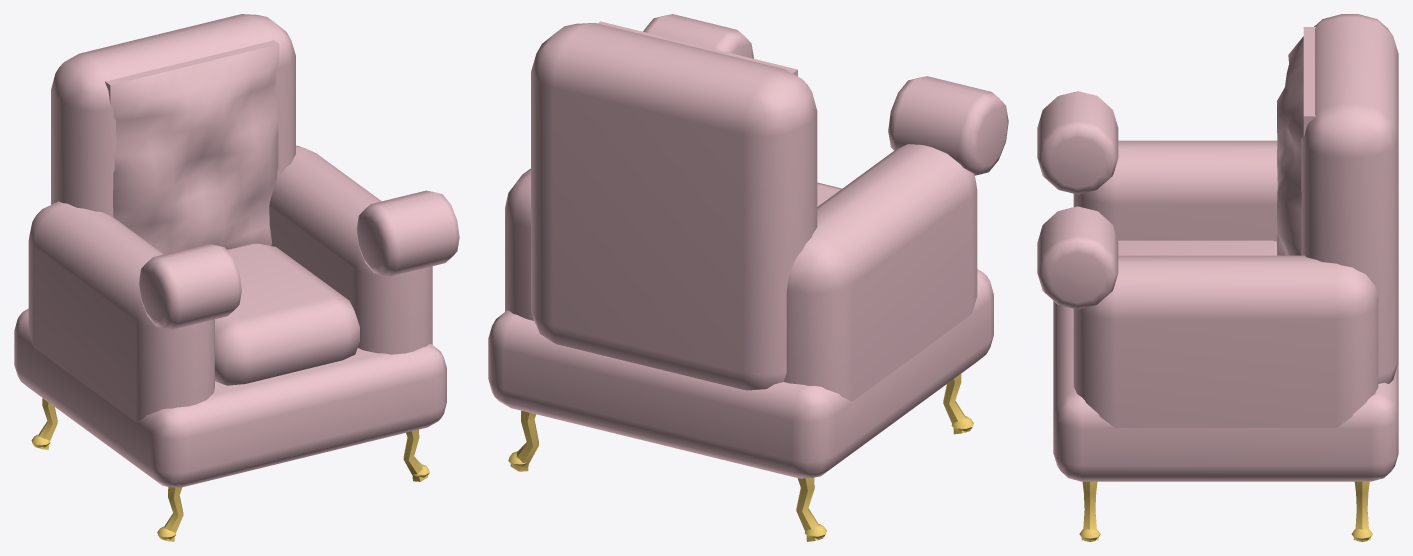
The model's file is armchair_capitone.glb.
The picture shows the model from 3 angles, left to right: view 1: azimuth 30°, elevation 25°; view 2: azimuth 150°, elevation 25°; view 3: azimuth 270°, elevation 25°; orthographic projection. The views are drawn at different scales.
Visible parts, largest first — view 1: armchair_capitone; view 2: armchair_capitone; view 3: armchair_capitone.
Boxes of the visible parts, left/top/right/bottom form: armchair_capitone: left=14, top=14, right=459, bottom=541; armchair_capitone: left=488, top=14, right=1008, bottom=541; armchair_capitone: left=1037, top=14, right=1398, bottom=541.
Bounding box in the file's own units: 0.9 × 1.13 × 0.89.
